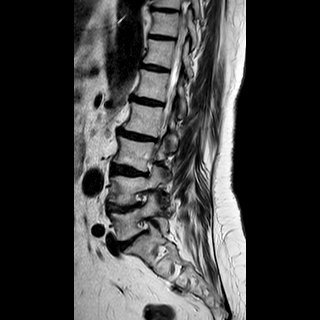LFS1: (129, 213, 156, 243)
LFS2: (127, 184, 154, 214)
